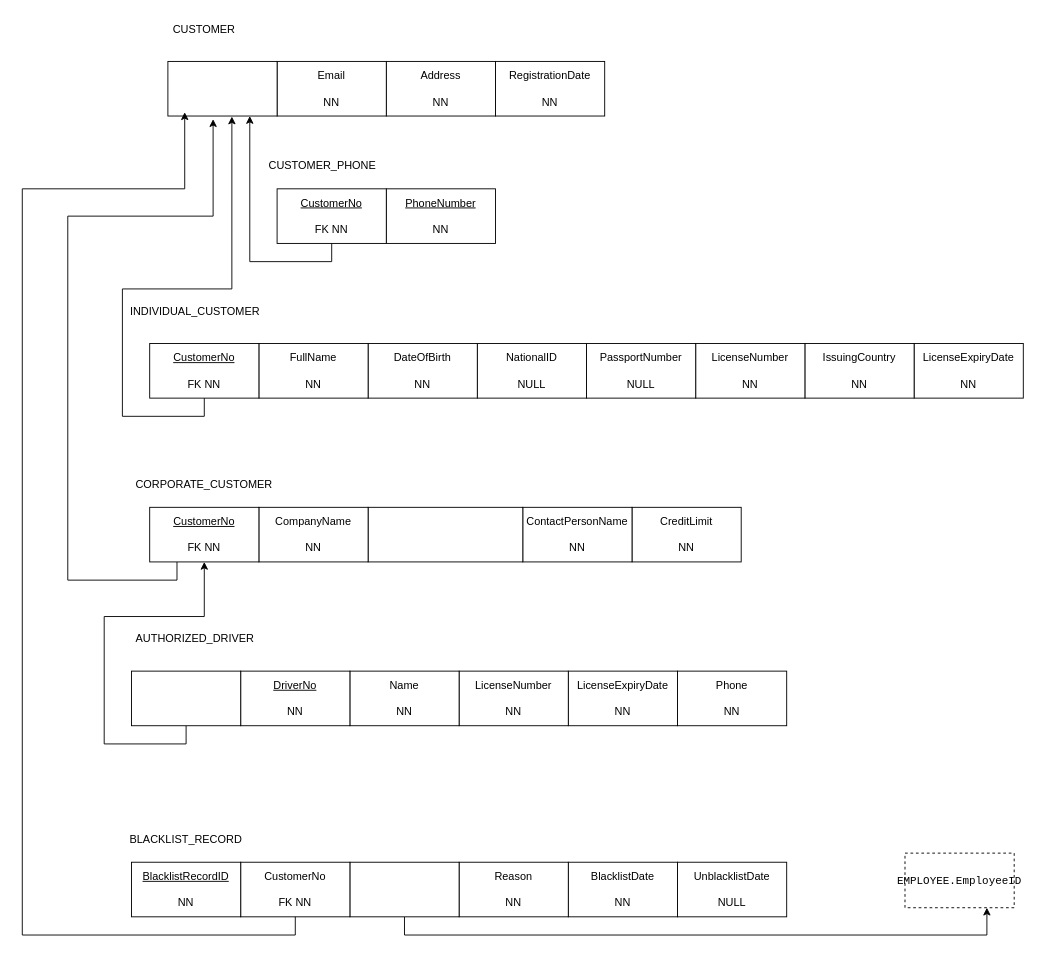
Image size: 1039x958. Some labels were removed from this diagram. Here are the shapes that lost their labels. From the top down, the centre of each, then its label:
(222,88): CustomerNo NN
(445,534): TaxRegistrationNumber NN
(186,698): CorporateCustomerNo FK NN
(404,889): ManagerEmployeeID FK NN
